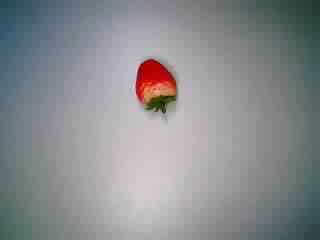strawberry: (119, 55, 185, 117)
